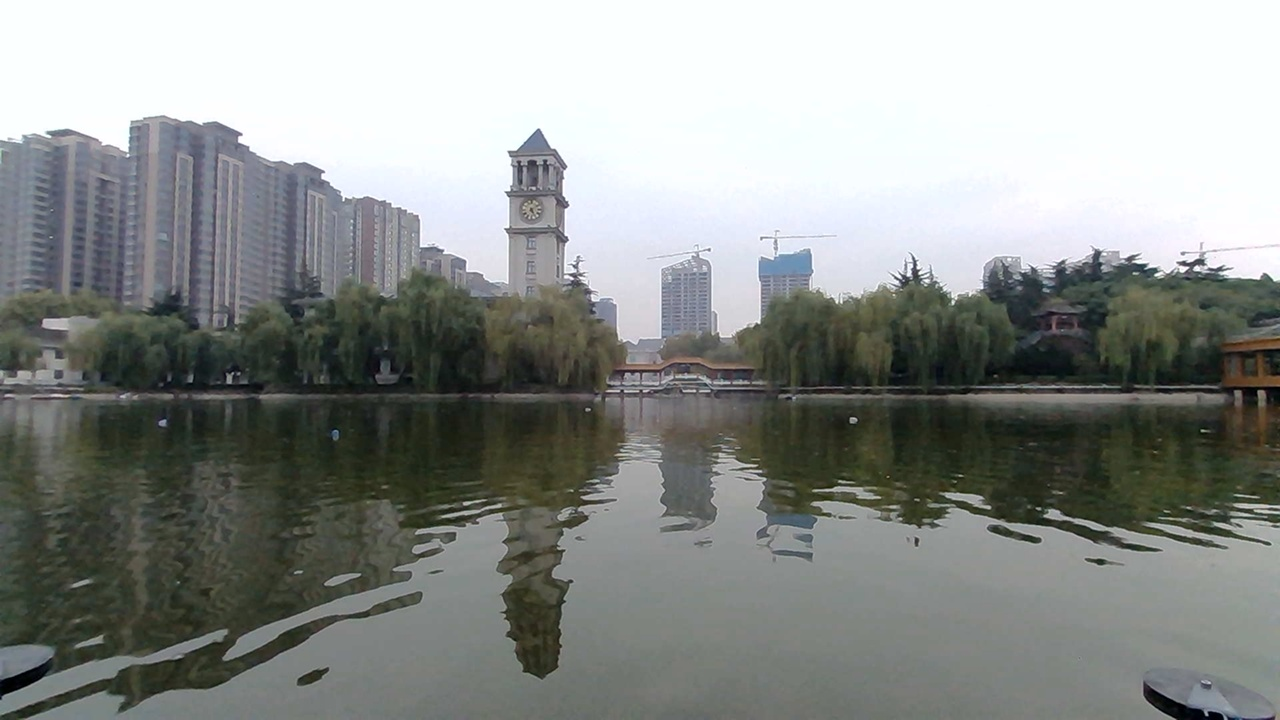bottle: (836, 408, 874, 429), (317, 422, 351, 444), (154, 405, 175, 433)
